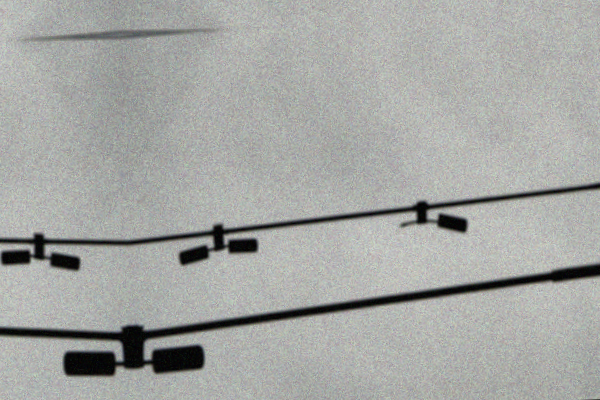damper: (59, 320, 210, 380), (176, 219, 261, 267), (1, 230, 83, 273)
damper_defect: (394, 199, 469, 233)
